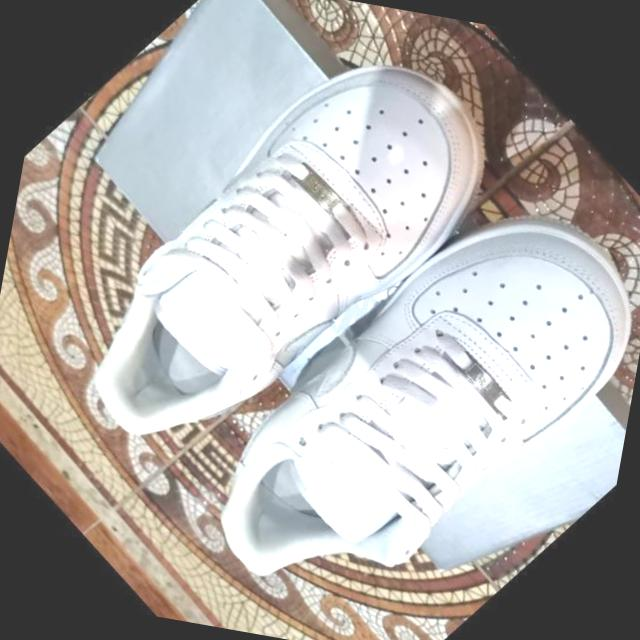nike_fake_airforce: (5, 0, 547, 542), (135, 101, 640, 640)
